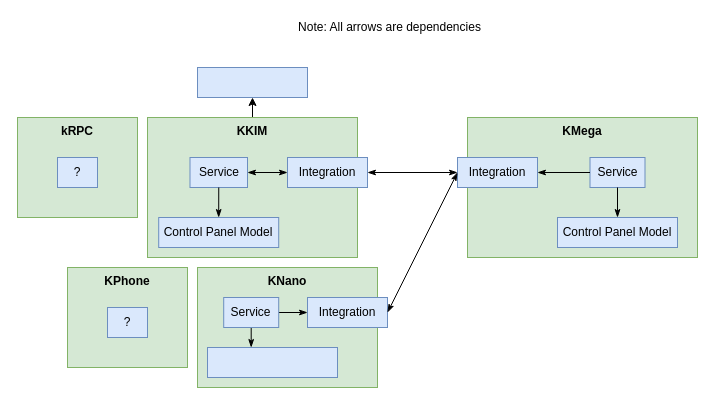
This 715x405 diagram has some shape labels left out. Each missing label, with the centre of its shape:
Altitude Gauge Model: pixel 272 362
KKIMProperties: pixel 252 82
